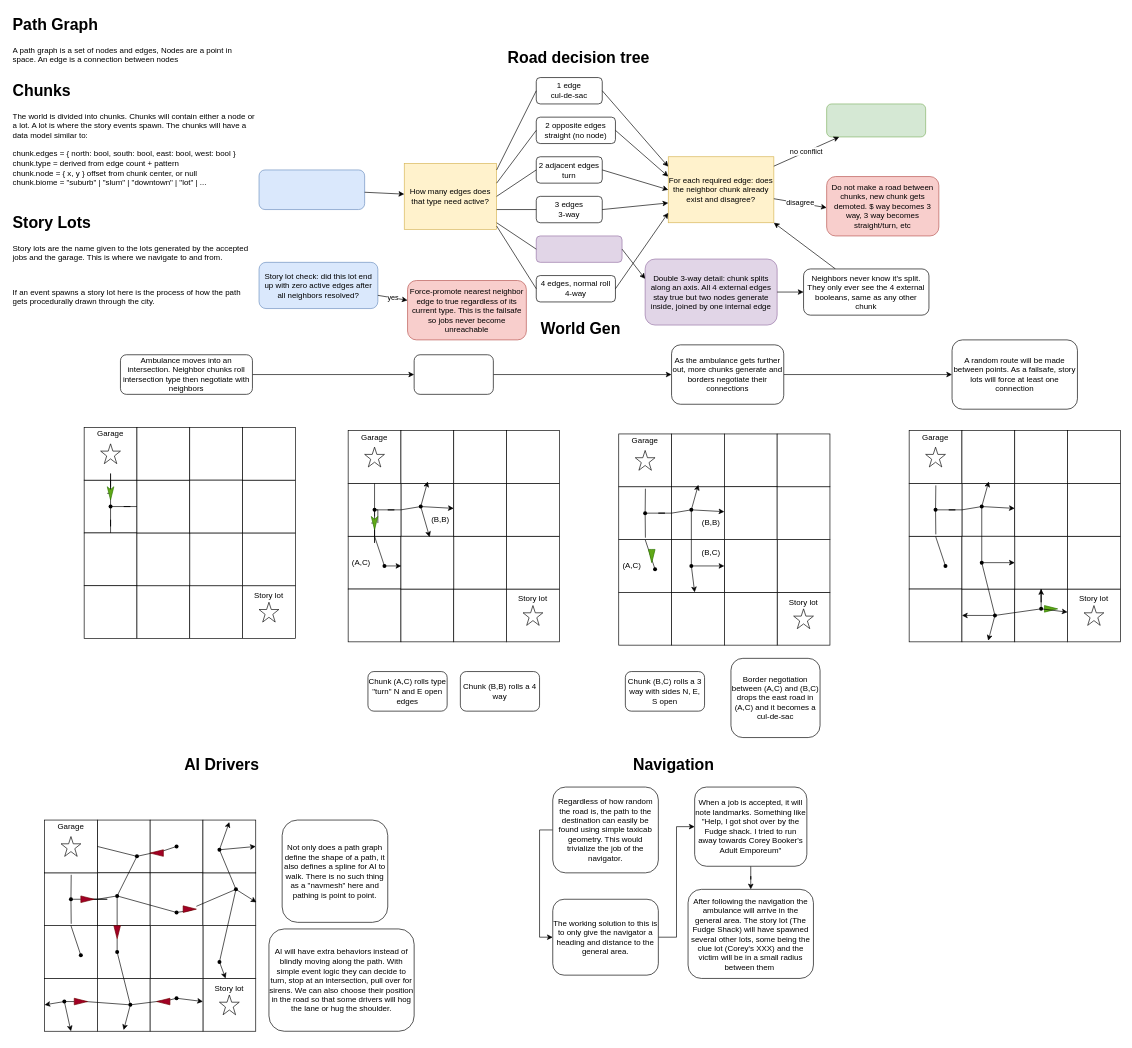
Some shapes in this 1132 by 1048 pixel diagram are drawn without their labels. The shapes that lost their labels are listed below. From the top down, each one's centre as x and y in pixels, then its label:
[876,120]: No conflict. Commit edge as set, both chunks agree
[311,189]: Chunk needs a type. Roll against biome weights (see box below)
[579,248]: 4 edges, rare roll double 3-way (split)
[453,374]: Neighbor chunks roll their type and edges first
